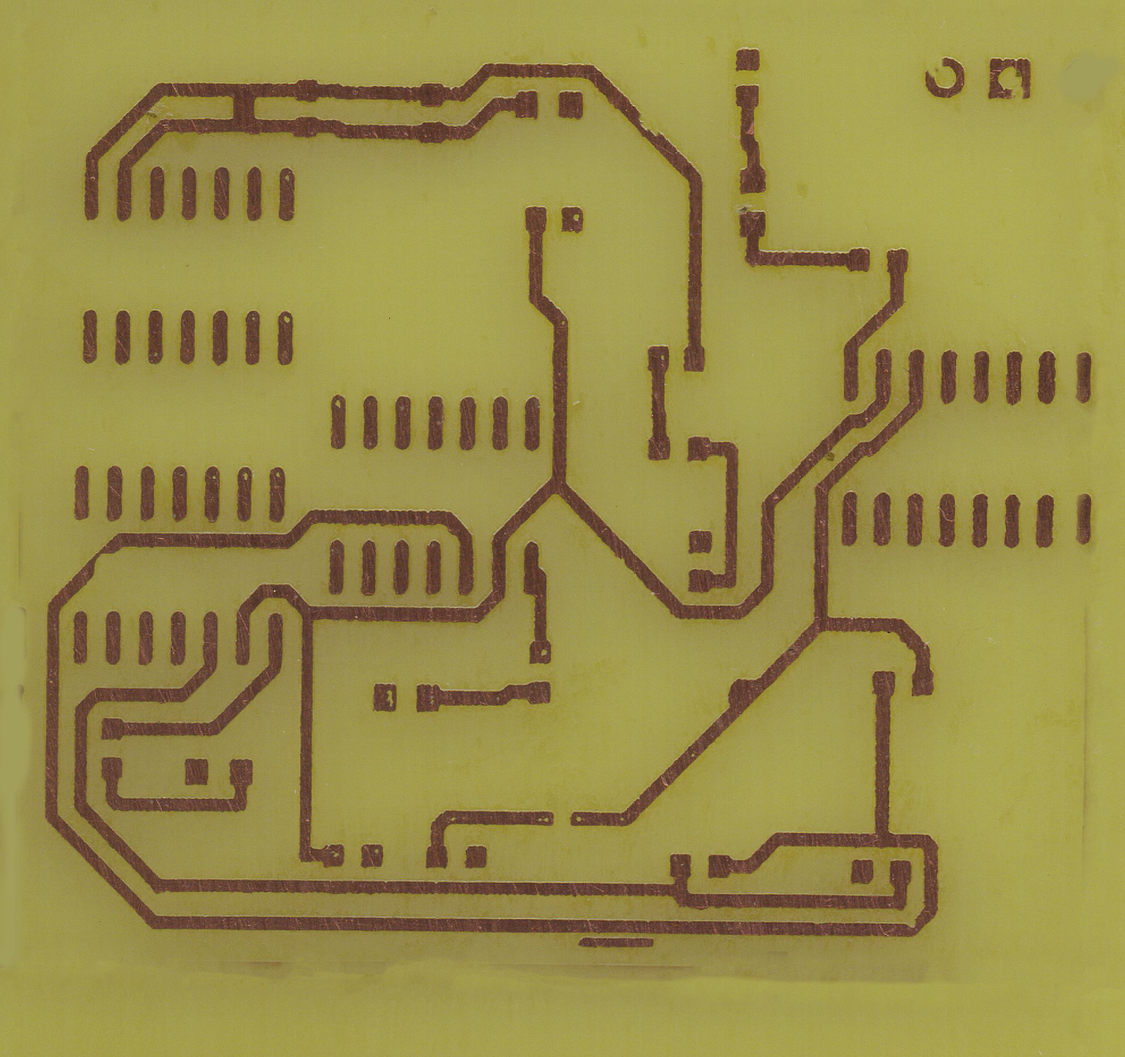missing_hole: (984, 56, 1036, 105), (921, 61, 966, 101)
mouse_bite: (89, 542, 117, 577), (636, 110, 663, 139)
open_circuit: (542, 804, 584, 832)
short: (225, 77, 262, 135)
spur: (723, 669, 764, 710)
spurious_copper: (578, 935, 658, 949)
